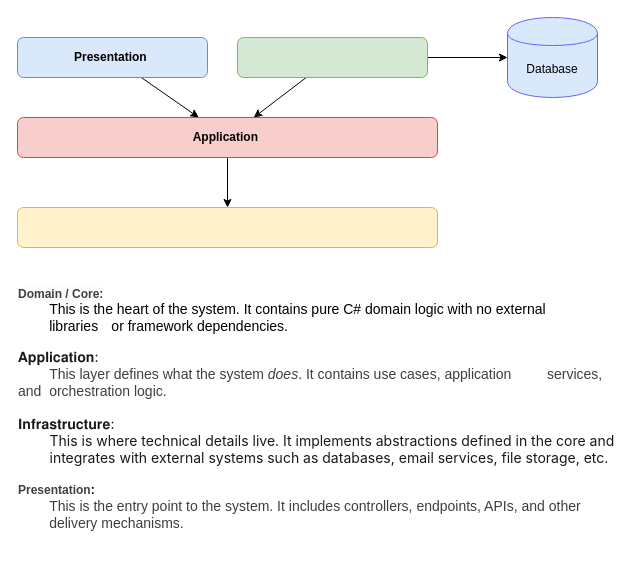
Image size: 635x575. Some labels were removed from this diagram. Here are the shapes that lost their labels. From the top down, the centre of each, then its label:
[332,57]: Infrastructure
[227,227]: Domain
